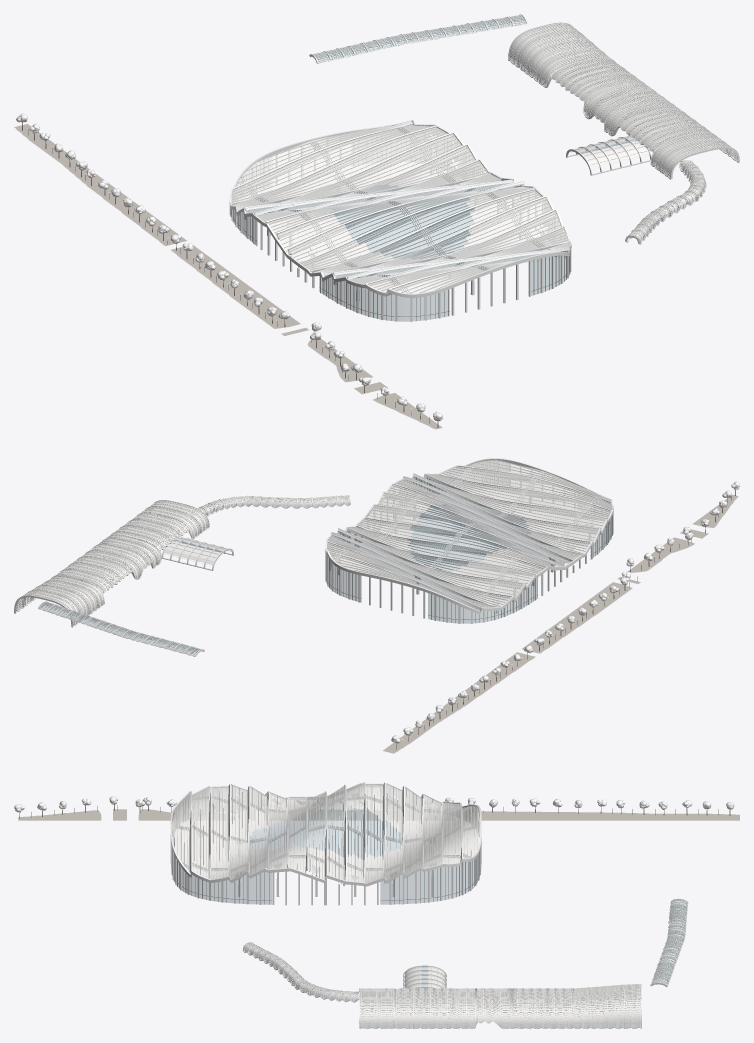
The model's file is canopy_changho.glb.
3 renders of one model, top to bottom at view 1: azimuth 30°, elevation 25°; view 2: azimuth 150°, elevation 25°; view 3: azimuth 270°, elevation 25°, orthographic. The views are drawn at different scales.
Visible parts, largest first — view 1: PR_CF_Panels, PR_CF_Frame, PR_CF_Sal, PR_VC_BT_Panels, PR_VC_BT_Sal, PR_CF_Glass, PR_WE_Paving, PR_VC_BT_Frame, PR_VC_SK_Panels, PR_VC_SK_Sal, PR_CF_Mullions, PR_VC_CX_Panels (+5 smaller); view 2: PR_CF_Panels, PR_CF_Frame, PR_CF_Sal, PR_VC_BT_Panels, PR_VC_BT_Sal, PR_CF_Glass, PR_WE_Paving, PR_VC_BT_Frame, PR_VC_CX_Panels, PR_VC_SK_Sal, PR_VC_SK_Panels, PR_VC_CX_Sal (+5 smaller); view 3: PR_CF_Panels, PR_VC_BT_Panels, PR_CF_Frame, PR_CF_Sal, PR_VC_BT_Sal, PR_CF_Glass, PR_WE_Paving, PR_VC_BT_Frame, PR_VC_CX_Panels, PR_VC_SK_Sal, PR_VC_SK_Panels, PR_CF_Mullions (+5 smaller).
Part boxes in pixels (left/top/right/bottom): PR_CF_Panels: left=231, top=125, right=569, bottom=293; PR_CF_Frame: left=229, top=120, right=571, bottom=321; PR_CF_Sal: left=231, top=124, right=569, bottom=293; PR_VC_BT_Panels: left=509, top=23, right=736, bottom=177; PR_VC_BT_Sal: left=509, top=23, right=737, bottom=177; PR_CF_Glass: left=231, top=121, right=569, bottom=321; PR_WE_Paving: left=14, top=124, right=442, bottom=429; PR_VC_BT_Frame: left=508, top=22, right=739, bottom=179; PR_VC_SK_Panels: left=313, top=15, right=526, bottom=62; PR_VC_SK_Sal: left=312, top=15, right=525, bottom=62; PR_CF_Mullions: left=230, top=174, right=570, bottom=320; PR_VC_CX_Panels: left=629, top=160, right=704, bottom=242; PR_CF_Panels: left=327, top=460, right=611, bottom=607; PR_CF_Frame: left=325, top=458, right=613, bottom=623; PR_CF_Sal: left=327, top=459, right=611, bottom=607; PR_VC_BT_Panels: left=16, top=500, right=208, bottom=624; PR_VC_BT_Sal: left=16, top=501, right=208, bottom=625; PR_CF_Glass: left=326, top=474, right=612, bottom=623; PR_WE_Paving: left=383, top=494, right=737, bottom=753; PR_VC_BT_Frame: left=14, top=500, right=209, bottom=627; PR_VC_CX_Panels: left=198, top=495, right=349, bottom=515; PR_VC_SK_Sal: left=39, top=602, right=201, bottom=655; PR_VC_SK_Panels: left=39, top=602, right=200, bottom=655; PR_VC_CX_Sal: left=195, top=495, right=349, bottom=515; PR_CF_Panels: left=172, top=783, right=479, bottom=883; PR_VC_BT_Panels: left=360, top=984, right=641, bottom=1027; PR_CF_Frame: left=170, top=782, right=481, bottom=905; PR_CF_Sal: left=174, top=784, right=478, bottom=883; PR_VC_BT_Sal: left=360, top=984, right=641, bottom=1027; PR_CF_Glass: left=172, top=796, right=478, bottom=904; PR_WE_Paving: left=18, top=809, right=739, bottom=820; PR_VC_BT_Frame: left=359, top=983, right=641, bottom=1028; PR_VC_CX_Panels: left=244, top=942, right=359, bottom=1001; PR_VC_SK_Sal: left=651, top=899, right=687, bottom=985; PR_VC_SK_Panels: left=651, top=899, right=687, bottom=984; PR_CF_Mullions: left=172, top=815, right=480, bottom=904.
Size of the model in its own units: 365 by 45.02 by 507.
